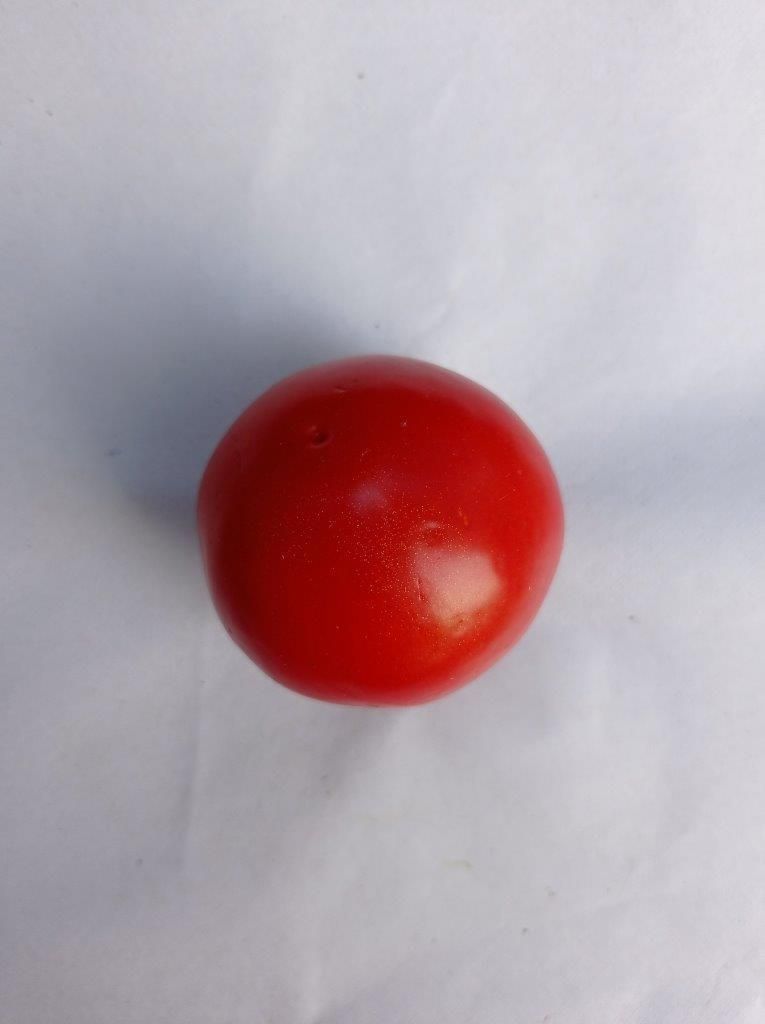tomato: (198, 357, 562, 705)
